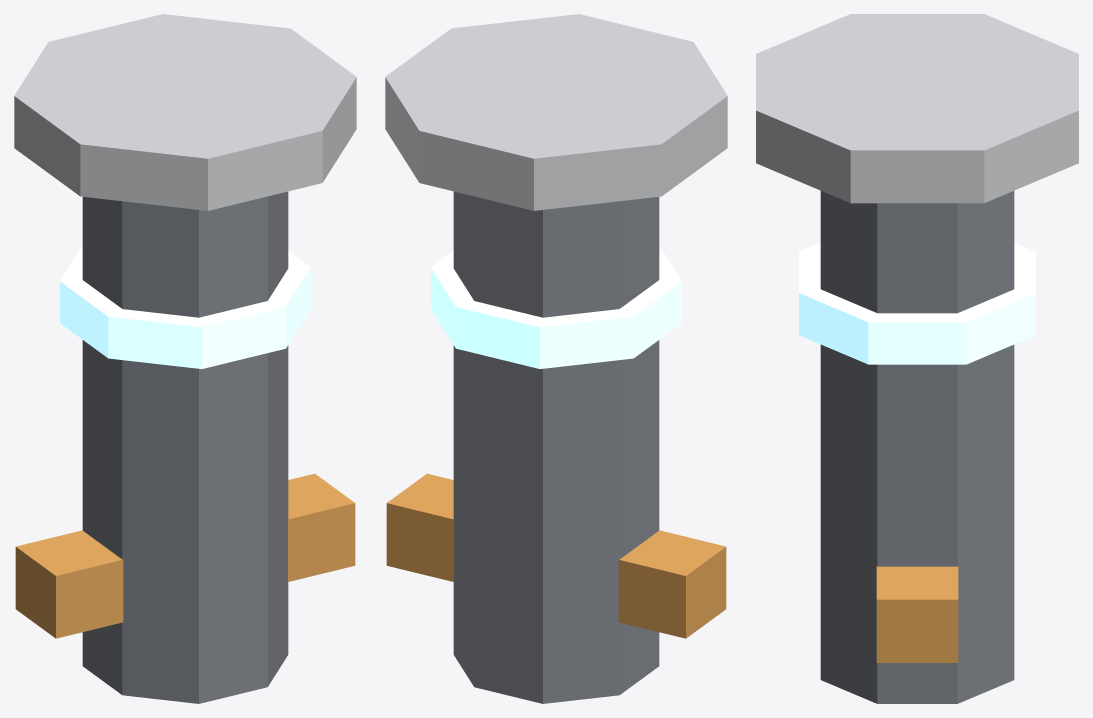
The model's file is oxygen-vent.glb.
3 renders of one model, left to right at view 1: azimuth 30°, elevation 25°; view 2: azimuth 150°, elevation 25°; view 3: azimuth 270°, elevation 25°, orthographic.
Visible parts, largest first — view 1: pipe; view 2: pipe; view 3: pipe.
Boxes of the visible parts, x1=… form: pipe: x1=14, y1=14, x2=356, y2=703; pipe: x1=385, y1=14, x2=727, y2=703; pipe: x1=756, y1=14, x2=1078, y2=703.
Size of the model in its own units: 0.6 by 1.1 by 0.5543.
